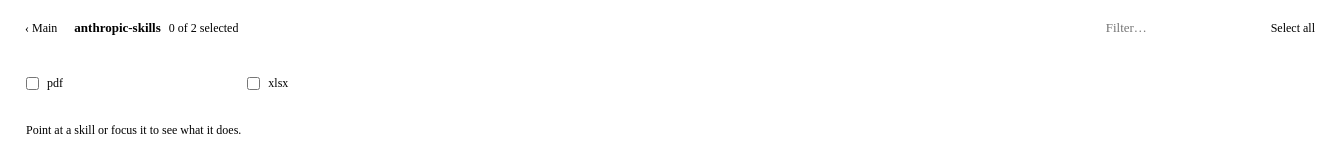
SkillSourceView › filters within the source and says when nothing matches
Type "pdf" into the search field named "Filter anthropic-skills" at (1176, 28), box x1=1096 y1=16 x2=1256 y2=40
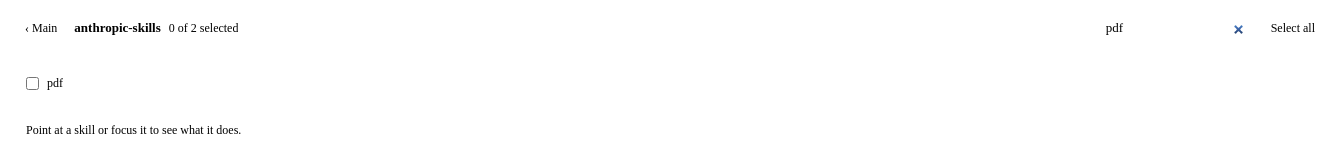
Expected: the number of checkboxes is 1, x1=26 y1=76 x2=39 y2=90
Type "zzz" into the search field named "Filter anthropic-skills" at (1176, 28), box x1=1096 y1=16 x2=1256 y2=40
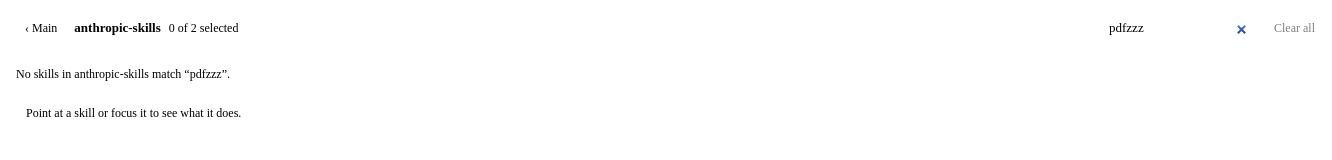
Expected: the message shows "No skills in anthropic-skills match", x1=16 y1=67 x2=230 y2=81
